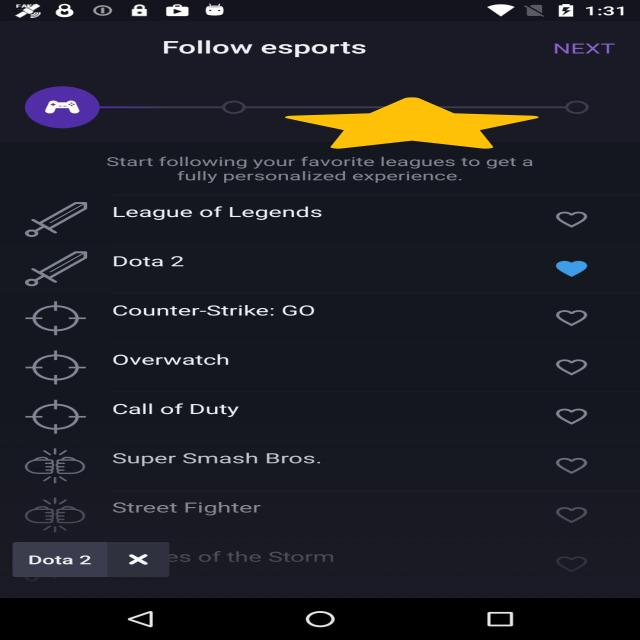forced continuity: (285, 97, 539, 149)
